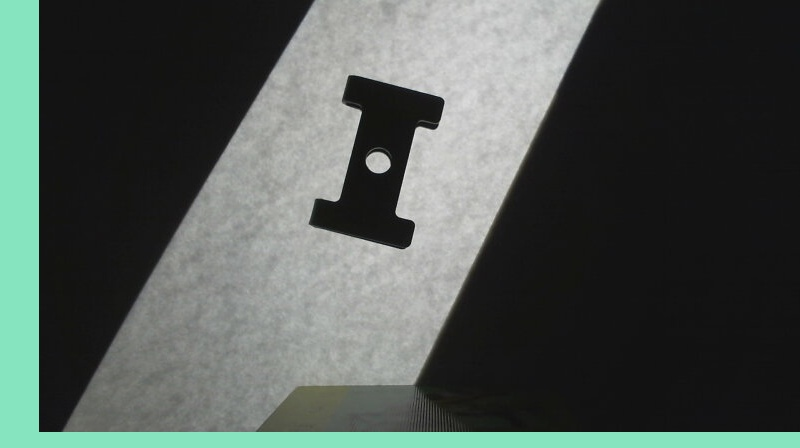O002: (304, 71, 447, 251)
